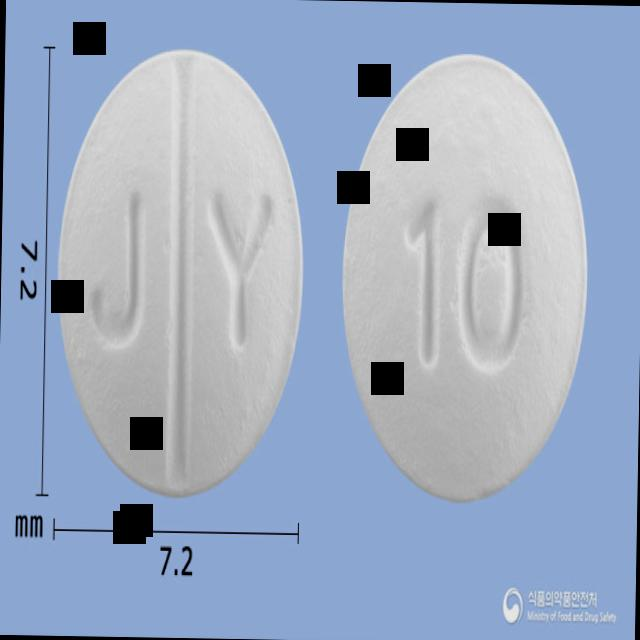Durova - 20mg: (53, 42, 310, 500), (337, 51, 591, 503)
